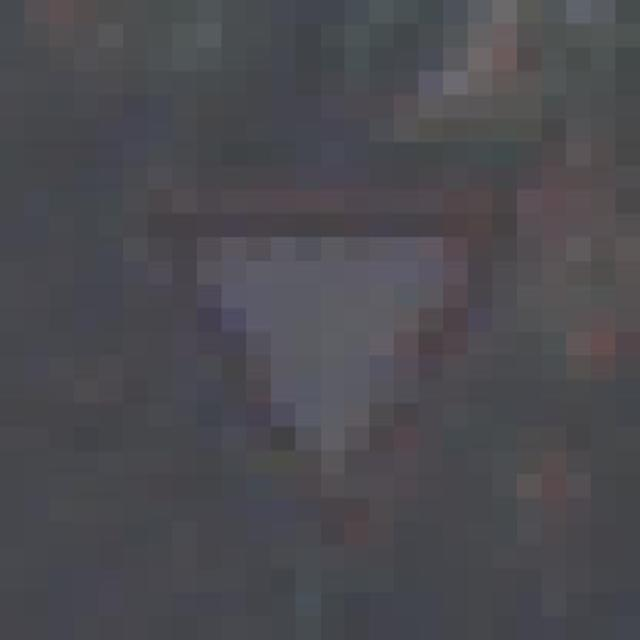Give Way: (121, 118, 564, 592)
